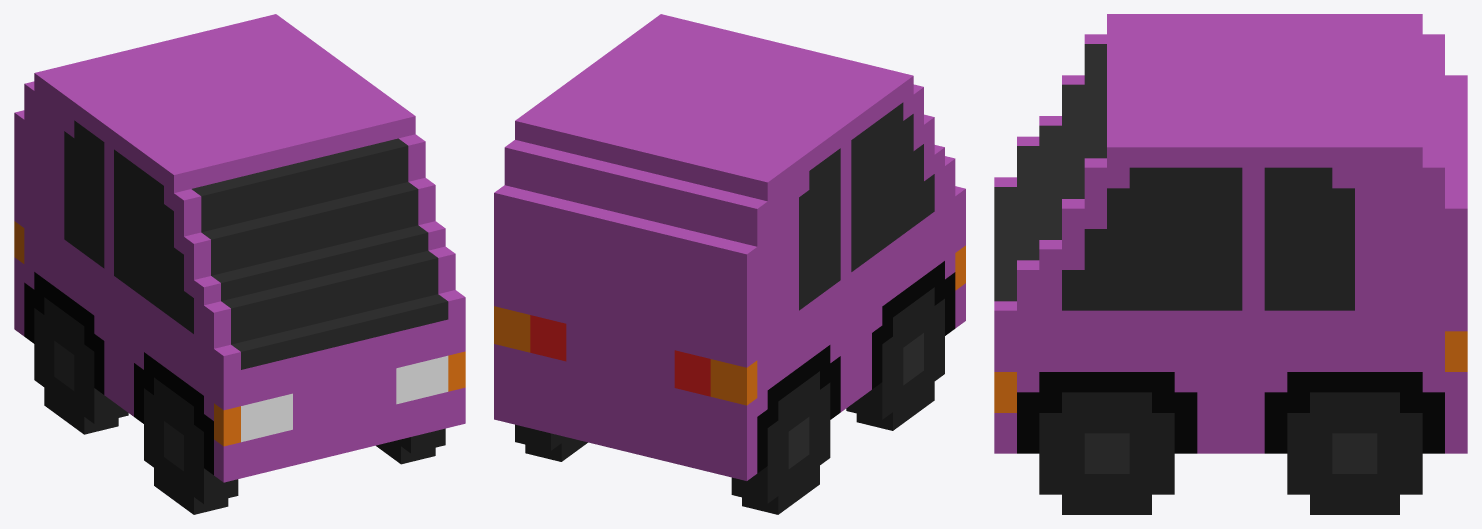
File: kit-voxel-micro-purple.glb
3 renders of one model, left to right at view 1: azimuth 30°, elevation 25°; view 2: azimuth 150°, elevation 25°; view 3: azimuth 270°, elevation 25°, orthographic. The views are drawn at different scales.
Parts seen in each view (by area): view 1: geometry_1; view 2: geometry_1; view 3: geometry_1.
Part boxes in pixels (x1,y1,x2,y2): geometry_1: (14,14,465,514); geometry_1: (494,14,965,514); geometry_1: (994,14,1467,514).
Size of the model in its own units: 1.4 by 1.8 by 2.1.
Materials: 1 (1 with a texture image).
